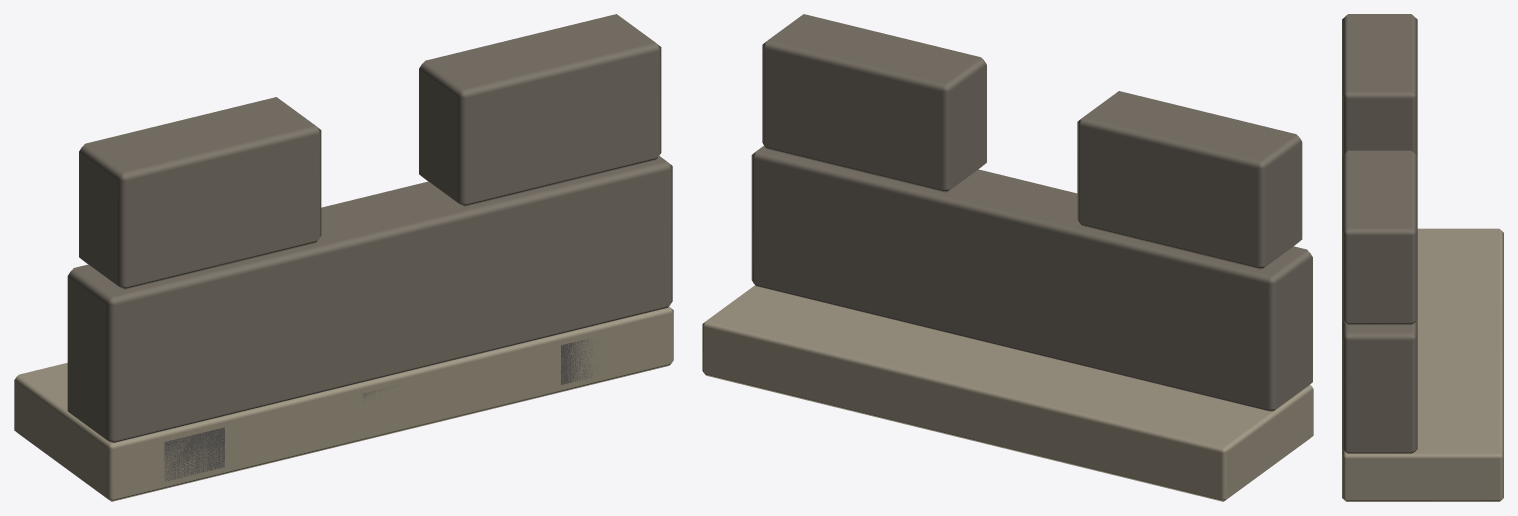
File: stone-halls-battlement.1bd6b87c.glb
The picture shows the model from 3 angles, left to right: view 1: azimuth 30°, elevation 25°; view 2: azimuth 150°, elevation 25°; view 3: azimuth 270°, elevation 25°; orthographic projection. The views are drawn at different scales.
Visible parts, largest first — view 1: body; view 2: body; view 3: body.
Part boxes in pixels (bbox=[...]): body: bbox=[14, 14, 673, 501]; body: bbox=[702, 14, 1313, 501]; body: bbox=[1342, 14, 1503, 501].
Bounding box in the file's own units: 1 × 0.55 × 0.3.
